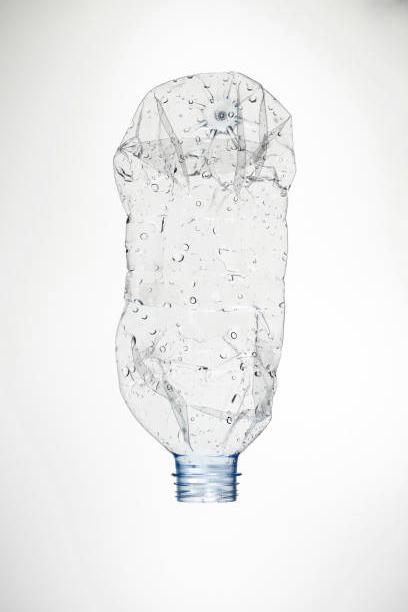Plastic: (113, 65, 293, 509)
